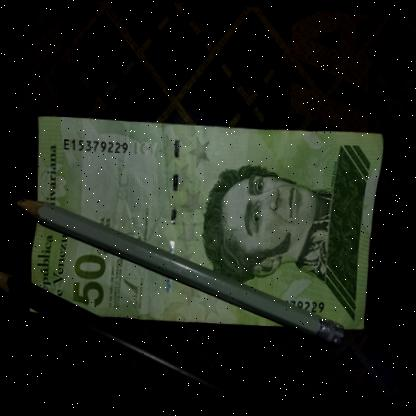fifty-front-vef: (23, 108, 386, 334)
